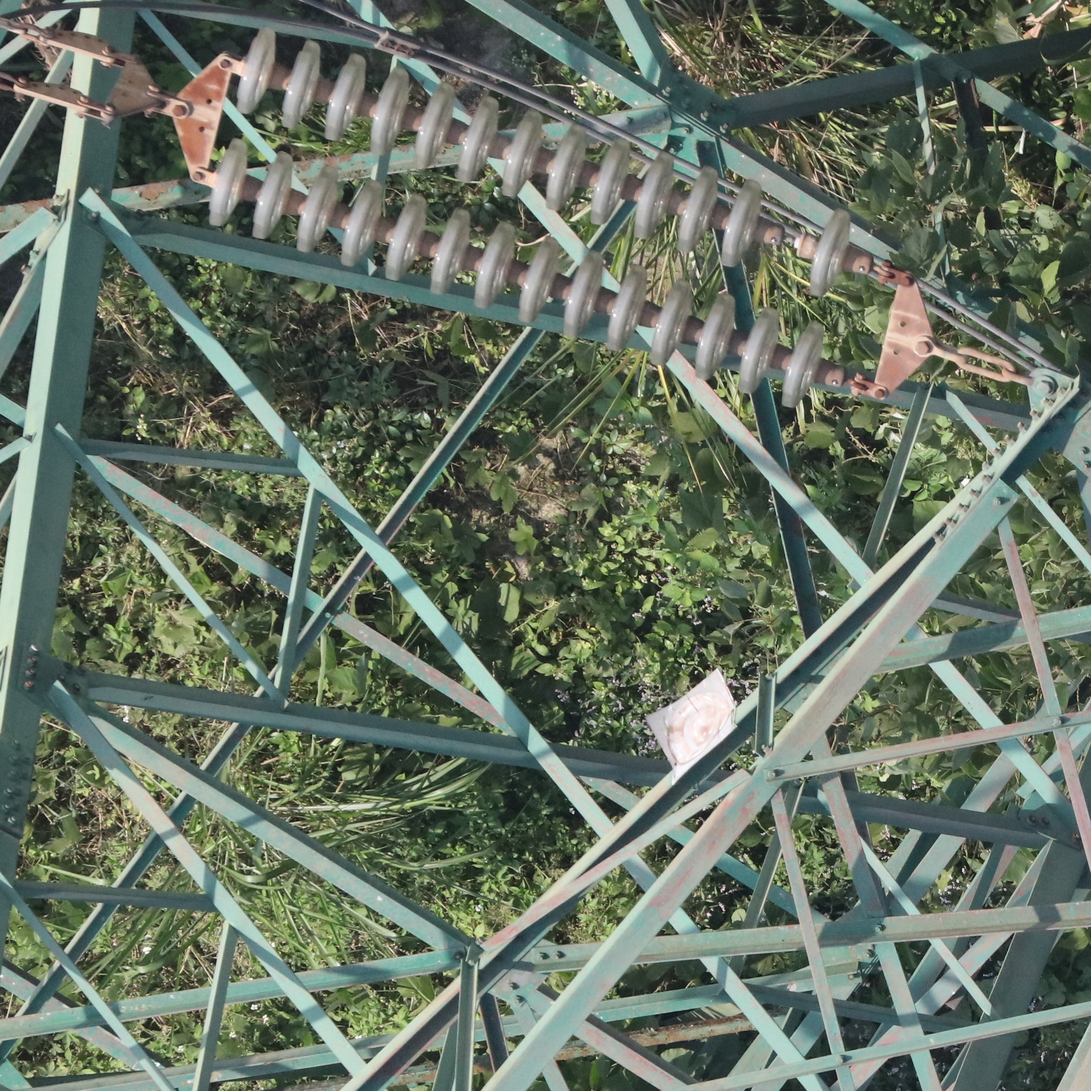绝缘子自爆区域: (753, 184, 820, 285)
